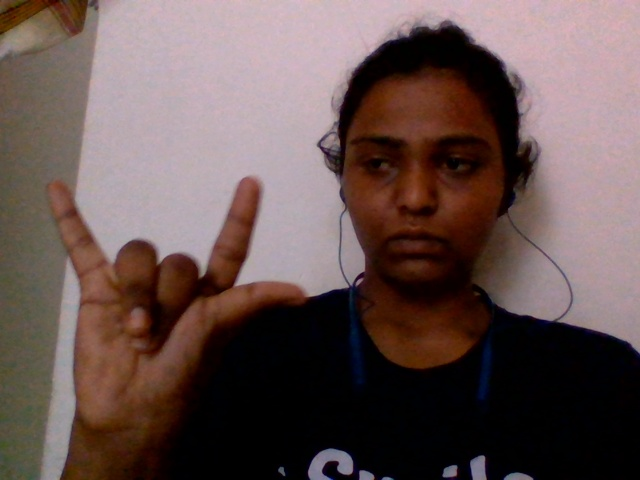IloveYou: (26, 141, 331, 446)
